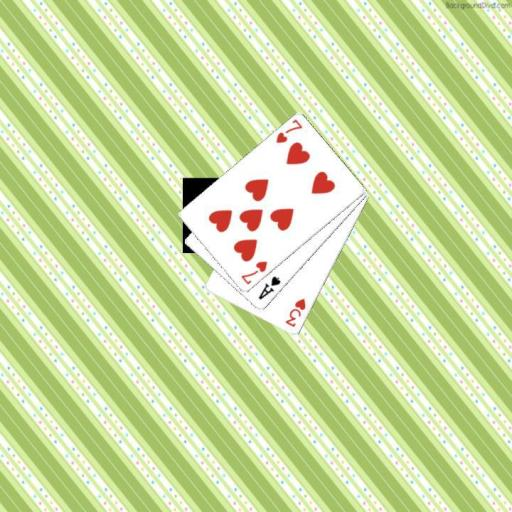3H: (283, 295, 308, 329)
7H: (237, 258, 269, 287), (273, 116, 304, 145)
AS: (256, 273, 283, 302)
